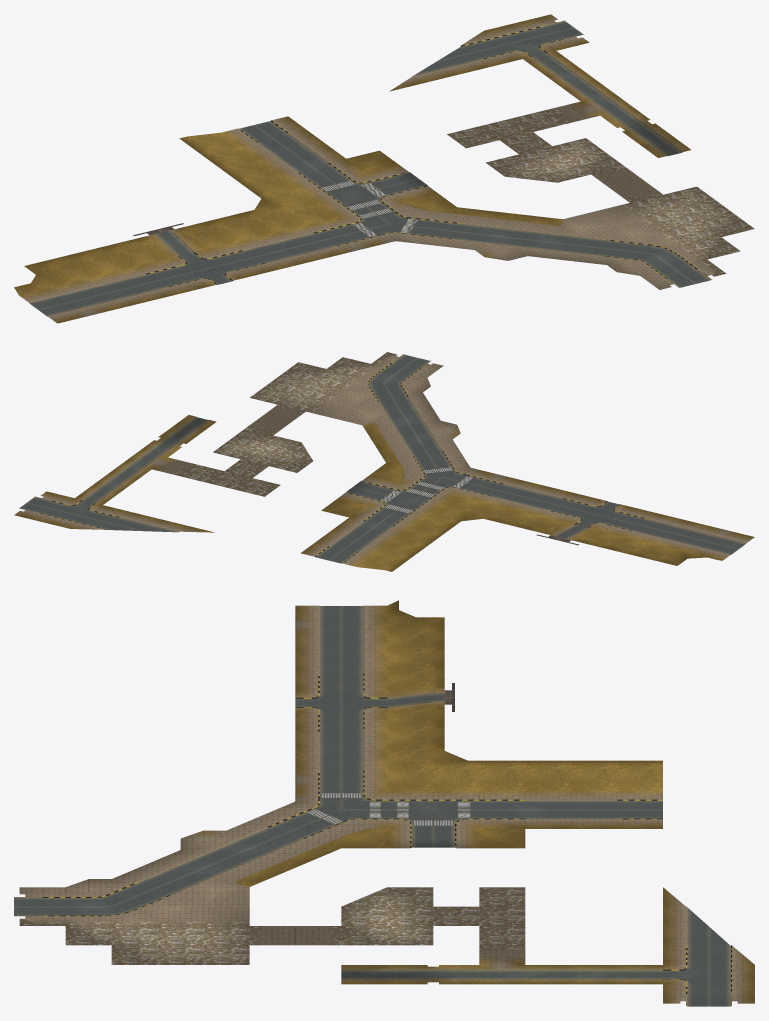
File: M11Z1_Floor.glb
3 views of the same model, one above another, from view 1: azimuth 30°, elevation 25°; view 2: azimuth 150°, elevation 25°; view 3: azimuth 270°, elevation 25° (orthographic). The views are drawn at different scales.
Parts seen in each view (by area): view 1: M11Z1_FLOOR096, M11Z1_FLOOR063, M11Z1_FLOOR017, M11Z1_FLOOR075, M11Z1_FLOOR073, M11Z1_FLOOR076, M11Z1_FLOOR072, M11Z1_FLOOR077, M11Z1_FLOOR074, M11Z1_FLOOR071, M11Z1_FLOOR099, M11Z1_FLOOR010 (+70 smaller); view 2: M11Z1_FLOOR063, M11Z1_FLOOR017, M11Z1_FLOOR096, M11Z1_FLOOR010, M11Z1_FLOOR081, M11Z1_FLOOR041, M11Z1_FLOOR018, M11Z1_FLOOR036, M11Z1_FLOOR025, M11Z1_FLOOR057, M11Z1_FLOOR099, M11Z1_FLOOR031 (+69 smaller); view 3: M11Z1_FLOOR096, M11Z1_FLOOR063, M11Z1_FLOOR017, M11Z1_FLOOR046, M11Z1_FLOOR010, M11Z1_FLOOR036, M11Z1_FLOOR099, M11Z1_FLOOR106, M11Z1_FLOOR117, M11Z1_FLOOR107, M11Z1_FLOOR018, M11Z1_FLOOR025 (+78 smaller).
Boxes of the visible parts, x1,y1,x2,y2 form: M11Z1_FLOOR096: (251, 189, 303, 215); M11Z1_FLOOR063: (387, 193, 448, 224); M11Z1_FLOOR017: (598, 225, 667, 250); M11Z1_FLOOR075: (167, 223, 216, 254); M11Z1_FLOOR073: (103, 240, 149, 274); M11Z1_FLOOR076: (203, 215, 250, 250); M11Z1_FLOOR072: (69, 248, 116, 282); M11Z1_FLOOR077: (237, 207, 283, 241); M11Z1_FLOOR074: (136, 236, 185, 266); M11Z1_FLOOR071: (24, 256, 82, 282); M11Z1_FLOOR099: (349, 165, 401, 191); M11Z1_FLOOR010: (653, 223, 701, 252); M11Z1_FLOOR063: (371, 463, 438, 485); M11Z1_FLOOR017: (339, 388, 388, 409); M11Z1_FLOOR096: (423, 507, 493, 523); M11Z1_FLOOR010: (311, 376, 371, 390); M11Z1_FLOOR081: (368, 475, 411, 497); M11Z1_FLOOR041: (570, 492, 613, 514); M11Z1_FLOOR018: (294, 387, 357, 406); M11Z1_FLOOR036: (711, 527, 754, 549); M11Z1_FLOOR025: (307, 406, 369, 425); M11Z1_FLOOR057: (539, 508, 596, 526); M11Z1_FLOOR099: (338, 490, 395, 508); M11Z1_FLOOR031: (387, 433, 437, 454); M11Z1_FLOOR096: (417, 746, 479, 789); M11Z1_FLOOR063: (331, 814, 388, 847); M11Z1_FLOOR017: (138, 895, 203, 925); M11Z1_FLOOR046: (273, 798, 341, 821); M11Z1_FLOOR010: (102, 911, 157, 945); M11Z1_FLOOR036: (295, 605, 341, 634); M11Z1_FLOOR099: (433, 819, 479, 847); M11Z1_FLOOR106: (479, 765, 525, 799); M11Z1_FLOOR117: (525, 765, 571, 799); M11Z1_FLOOR107: (468, 799, 525, 819); M11Z1_FLOOR018: (154, 906, 203, 945); M11Z1_FLOOR025: (202, 887, 249, 925).
Bounding box in the file's own units: 165 × 1.2 × 129.
Materials: 18 (18 with a texture image).
